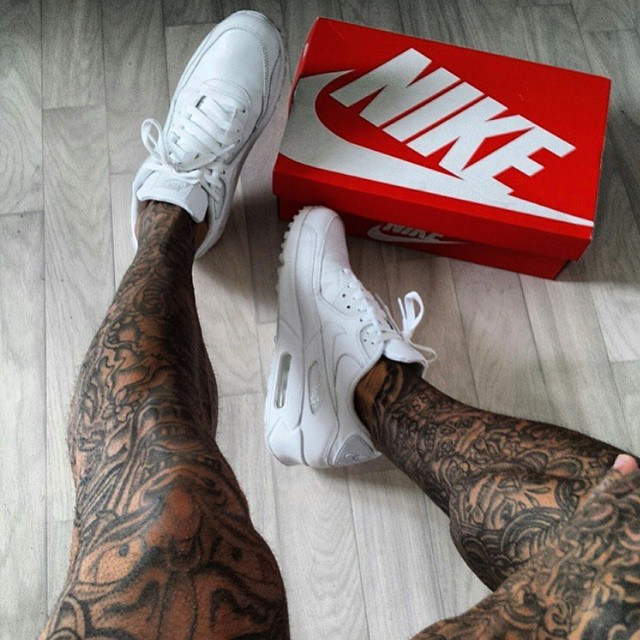sneaker: (240, 189, 459, 484), (100, 1, 309, 275)
